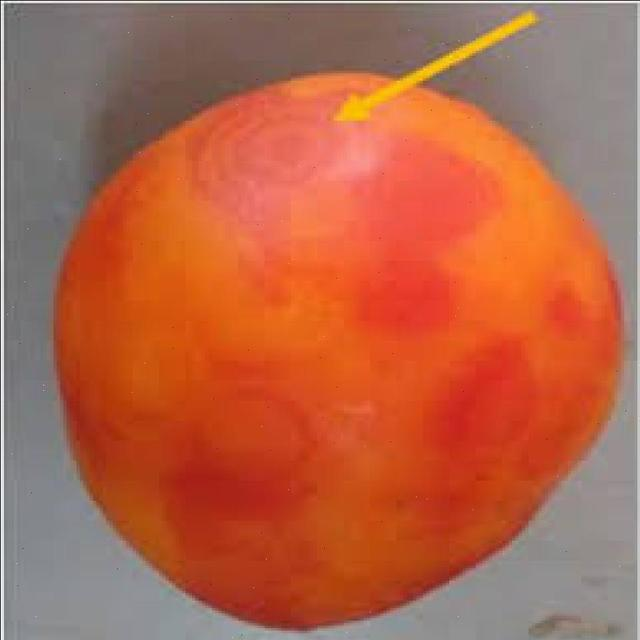Spotted wilt Virus Fruit: (225, 114, 584, 216)
